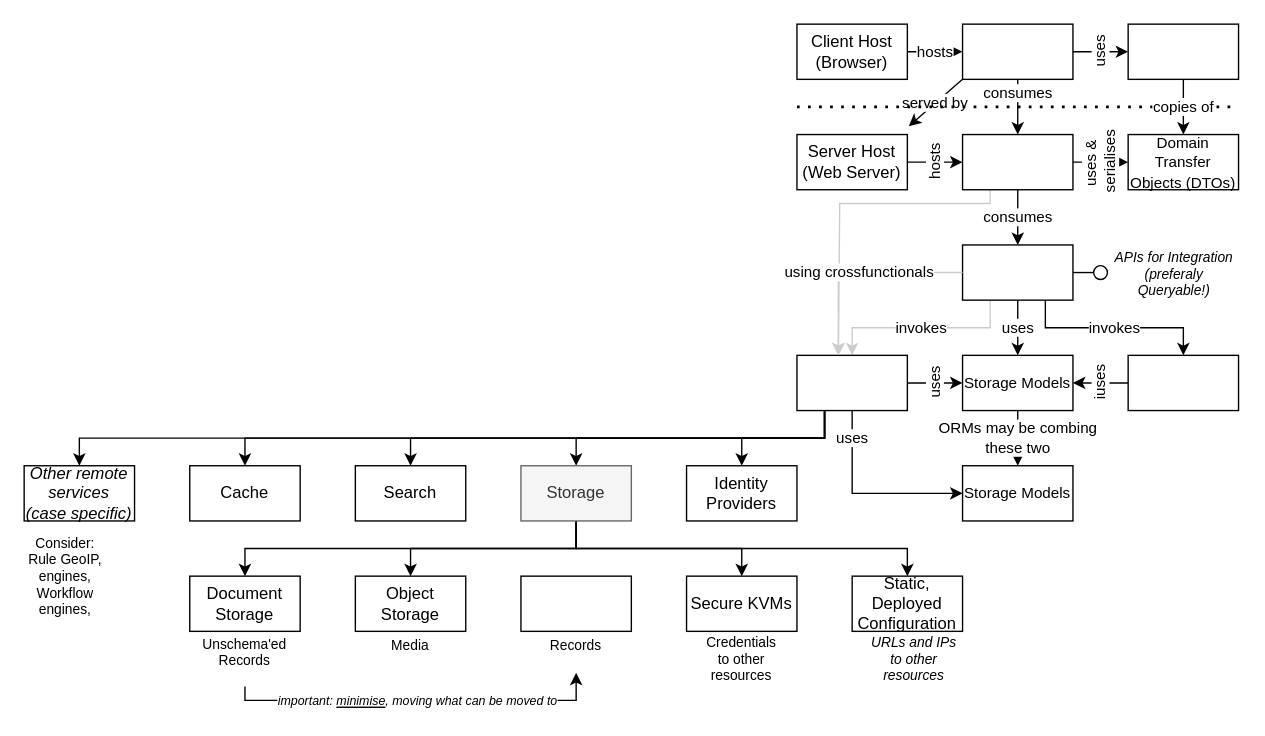
The diagram is 1265 pixels wide and 736 high, and some of its shapes have lost their labels. The shapes that lost their labels are listed below. From the top down, each one's box as (x1, y1, x2, y2) in pixels, then its label:
(961, 23, 1073, 79): Single Page App (SPA)
(1127, 23, 1239, 79): deserialised DTOs
(961, 133, 1073, 190): Presentation (APIs or Server Side Rendering)
(961, 244, 1073, 300): Application Services (Orchestrating)
(796, 354, 907, 411): Infrastructure Services
(1127, 354, 1239, 411): Business
(520, 575, 631, 631): Relational Dbs
